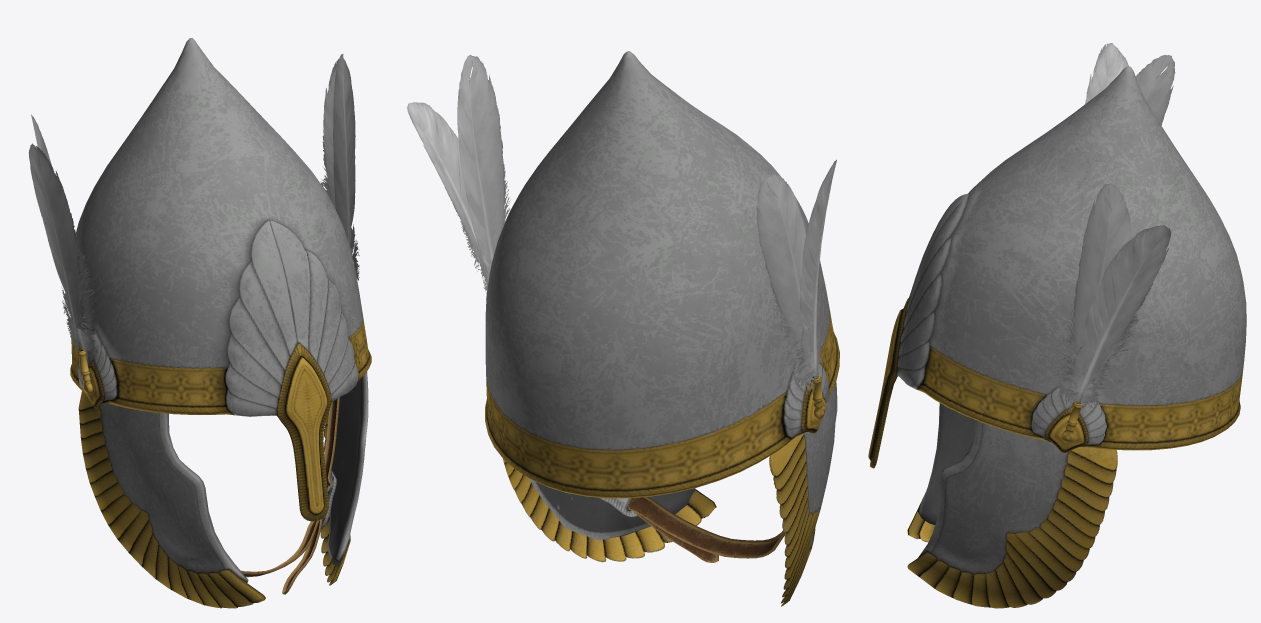
The model's file is pelargirmarine_helmet_1_a_plume.fbx.
The picture shows the model from 3 angles, left to right: view 1: azimuth 30°, elevation 25°; view 2: azimuth 150°, elevation 25°; view 3: azimuth 270°, elevation 25°; orthographic projection. The views are drawn at different scales.
Parts seen in each view (by area): view 1: pelargirmarine_helmet_1_a_plume.0, pelargirmarine_helmet_1_a_plume.1; view 2: pelargirmarine_helmet_1_a_plume.0, pelargirmarine_helmet_1_a_plume.1; view 3: pelargirmarine_helmet_1_a_plume.0, pelargirmarine_helmet_1_a_plume.1.
Part boxes in pixels (x1,y1,x2,y2): pelargirmarine_helmet_1_a_plume.0: (70, 38, 371, 608); pelargirmarine_helmet_1_a_plume.1: (28, 54, 359, 393); pelargirmarine_helmet_1_a_plume.0: (485, 51, 839, 606); pelargirmarine_helmet_1_a_plume.1: (407, 55, 836, 419); pelargirmarine_helmet_1_a_plume.0: (868, 66, 1246, 608); pelargirmarine_helmet_1_a_plume.1: (1052, 43, 1175, 442).
Size of the model in its own units: 0.2926 by 0.2744 by 0.4088.
2 materials, 2 textured.
